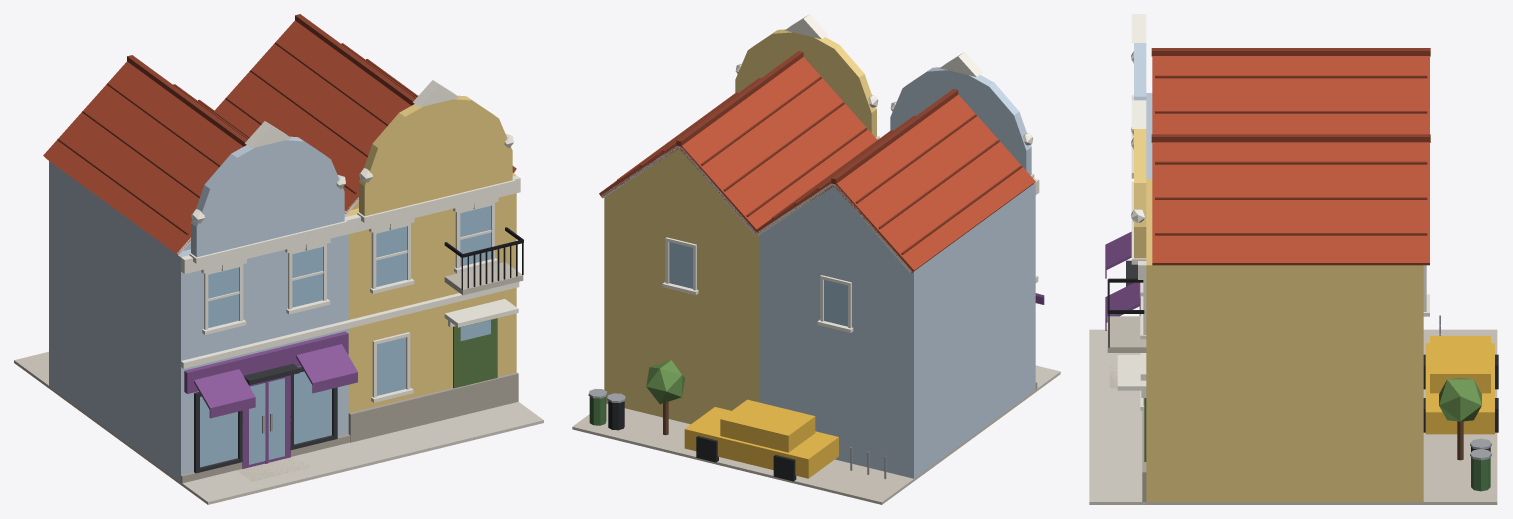
Rendered from Blok_duz_2k_6_Hafif.fbx.
3 renders of one model, left to right at view 1: azimuth 30°, elevation 25°; view 2: azimuth 150°, elevation 25°; view 3: azimuth 270°, elevation 25°, orthographic. The views are drawn at different scales.
Visible parts, largest first — view 1: Blok_duz_2k_6_Hafif; view 2: Blok_duz_2k_6_Hafif; view 3: Blok_duz_2k_6_Hafif.
Boxes of the visible parts, x1=… form: Blok_duz_2k_6_Hafif: x1=14, y1=14, x2=543, y2=504; Blok_duz_2k_6_Hafif: x1=572, y1=14, x2=1060, y2=504; Blok_duz_2k_6_Hafif: x1=1089, y1=14, x2=1498, y2=504.
Bounding box in the file's own units: 10.18 × 9.82 × 10.04.
